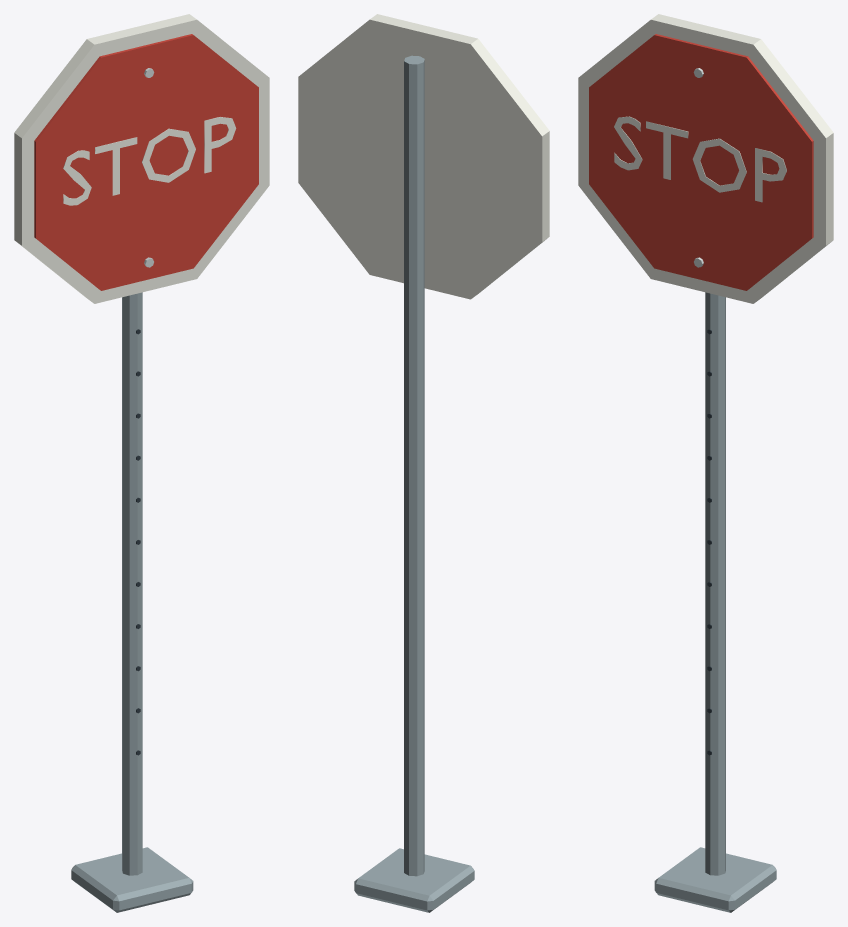
Rendered from Sign_Stop.glb.
The picture shows the model from 3 angles, left to right: view 1: azimuth 30°, elevation 25°; view 2: azimuth 150°, elevation 25°; view 3: azimuth 330°, elevation 25°; orthographic projection.
Visible parts, largest first — view 1: Sign_Stop; view 2: Sign_Stop; view 3: Sign_Stop.
Boxes of the visible parts, x1,y1,x2,y2 form: Sign_Stop: [14, 14, 269, 912]; Sign_Stop: [298, 14, 549, 912]; Sign_Stop: [578, 14, 833, 912].
Size of the model in its own units: 0.7391 by 2.47 by 0.24.
